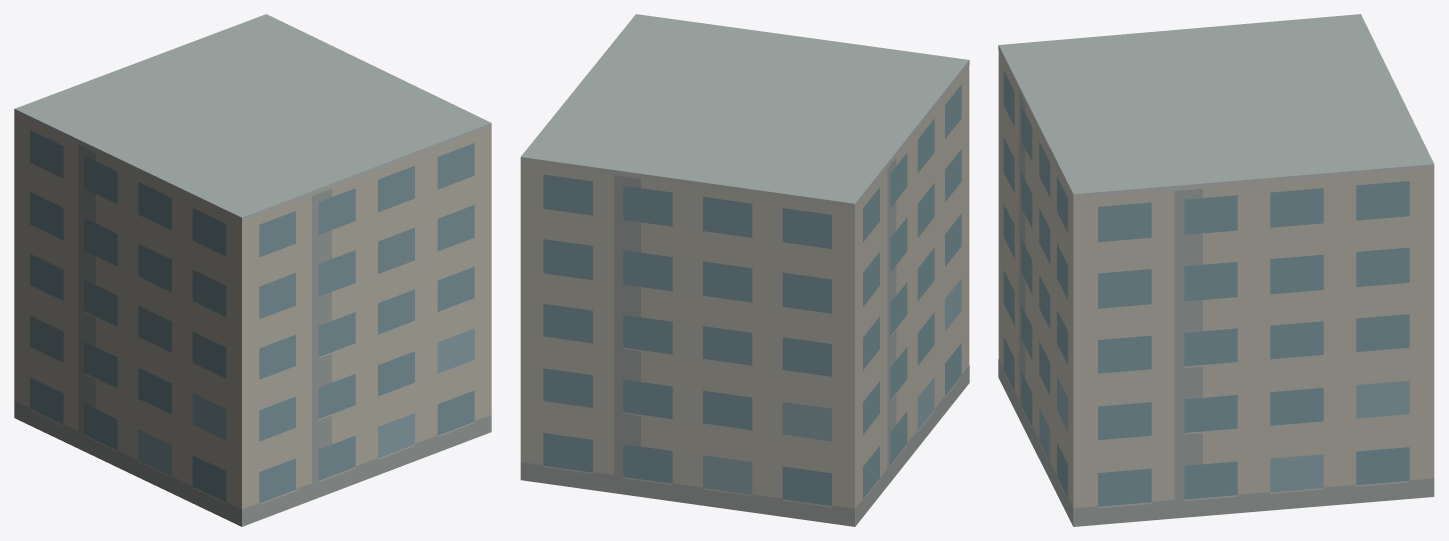
The model's file is survey-upis-33019557.glb.
3 renders of one model, left to right at view 1: azimuth 30°, elevation 25°; view 2: azimuth 150°, elevation 25°; view 3: azimuth 270°, elevation 25°, orthographic. The views are drawn at different scales.
Parts seen in each view (by area): view 1: survey-upis-33019557.tmp; view 2: survey-upis-33019557.tmp; view 3: survey-upis-33019557.tmp.
Boxes of the visible parts, x1,y1,x2,y2 form: survey-upis-33019557.tmp: (14,14,491,526); survey-upis-33019557.tmp: (520,14,969,526); survey-upis-33019557.tmp: (998,14,1434,526).
Bounding box in the file's own units: 17.73 × 15.25 × 18.12.
